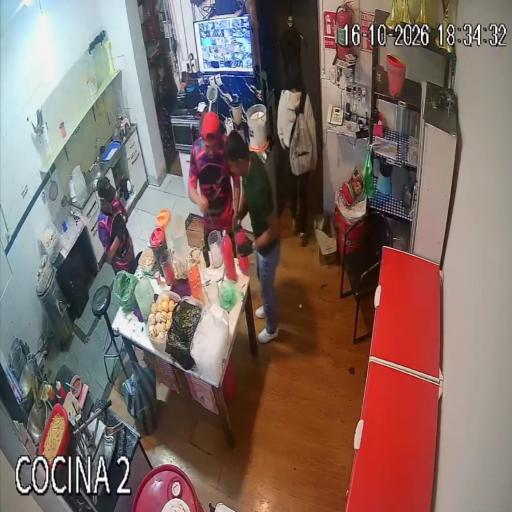Envase Ketchup: (57, 380, 66, 400)
Envase Llajua: (48, 388, 61, 405)
Jarra1: (150, 228, 166, 274)
Jarra2: (156, 209, 172, 244)
Jarra3: (170, 215, 189, 265)
Microondas: (170, 112, 200, 154)
Persona1: (188, 113, 239, 236)
Persona2: (97, 177, 134, 273)
Persona4: (225, 131, 280, 343)
Persona5: (277, 65, 317, 245)
Taper: (40, 225, 60, 261)
Taper2: (166, 296, 203, 370)
Taper3: (190, 304, 230, 384)
Taper4: (146, 290, 182, 352)
olla1: (19, 358, 38, 401)
